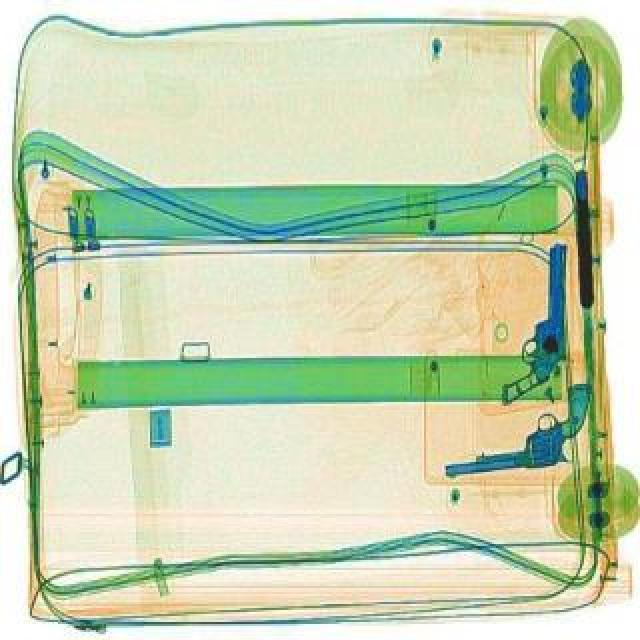gun: (440, 382, 600, 472), (504, 240, 572, 406), (574, 170, 600, 308)
